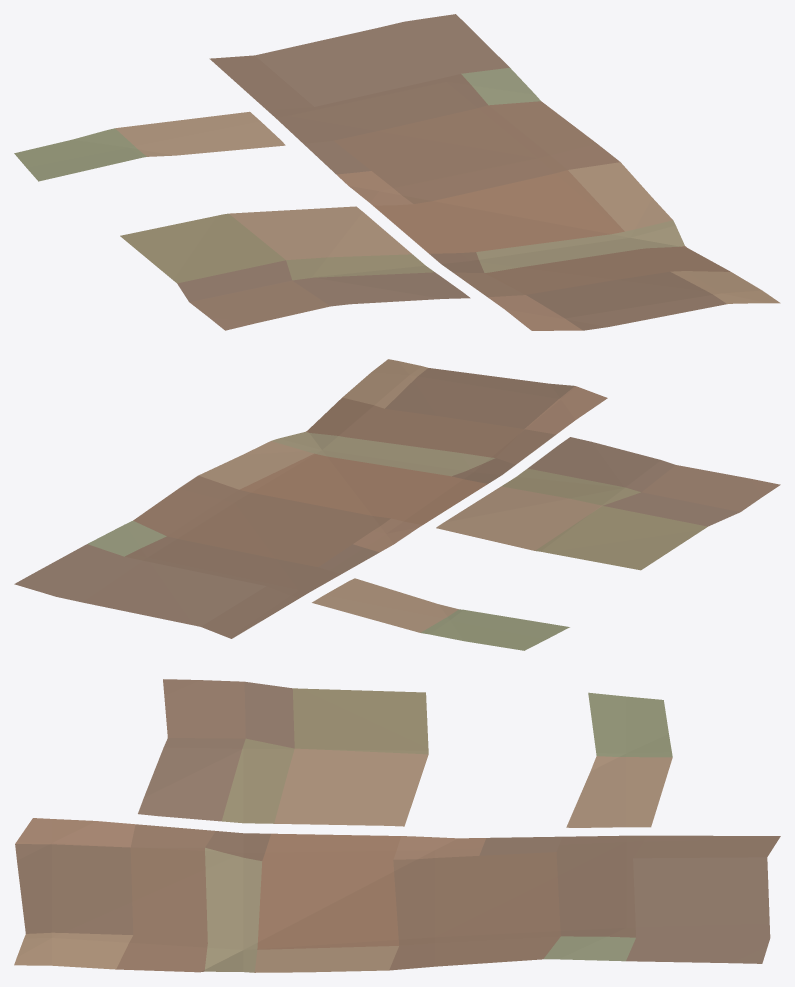
File: farm_6_9_soil.glb
3 renders of one model, top to bottom at view 1: azimuth 30°, elevation 25°; view 2: azimuth 150°, elevation 25°; view 3: azimuth 270°, elevation 25°, orthographic. The views are drawn at different scales.
Parts seen in each view (by area): view 1: geometry_0; view 2: geometry_0; view 3: geometry_0.
Part boxes in pixels (x1,y1,x2,y2): geometry_0: (14, 14, 780, 330); geometry_0: (14, 359, 780, 650); geometry_0: (14, 679, 780, 972).
Bounding box in the file's own units: 261 × 22.69 × 321.
